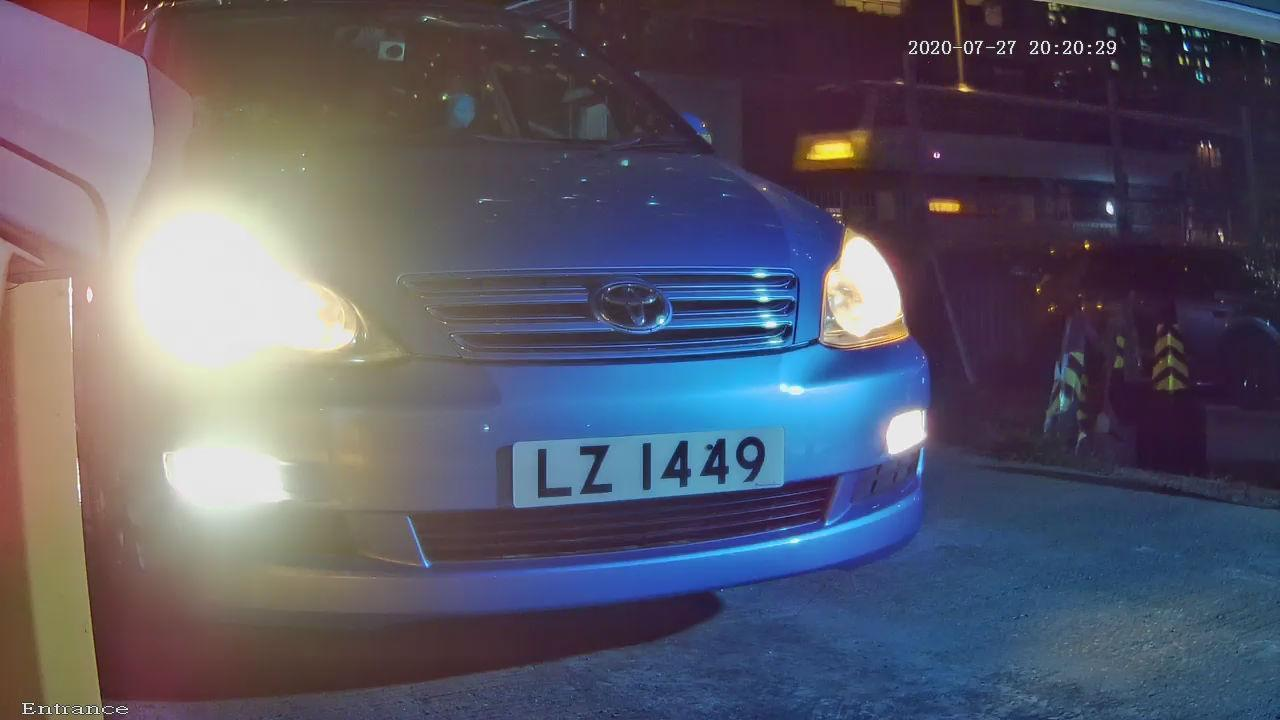privatecar: (46, 20, 972, 672)
